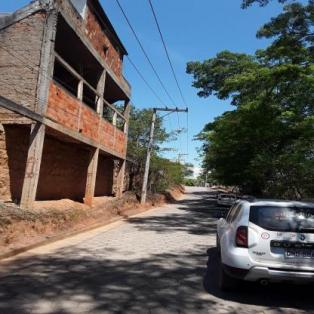Poste: (136, 106, 161, 206)
